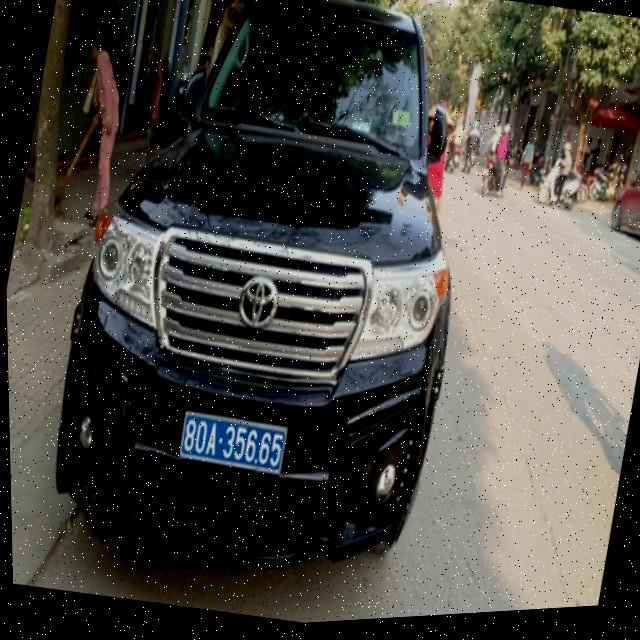car: (28, 0, 519, 618)
plate: (169, 398, 296, 486)
